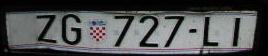-: (187, 28, 198, 34)
2: (139, 15, 158, 47)
7: (113, 15, 135, 47), (164, 15, 185, 47)
G: (61, 14, 82, 46)
I: (232, 17, 240, 48)
L: (204, 16, 219, 46)
Z: (34, 13, 57, 44)
